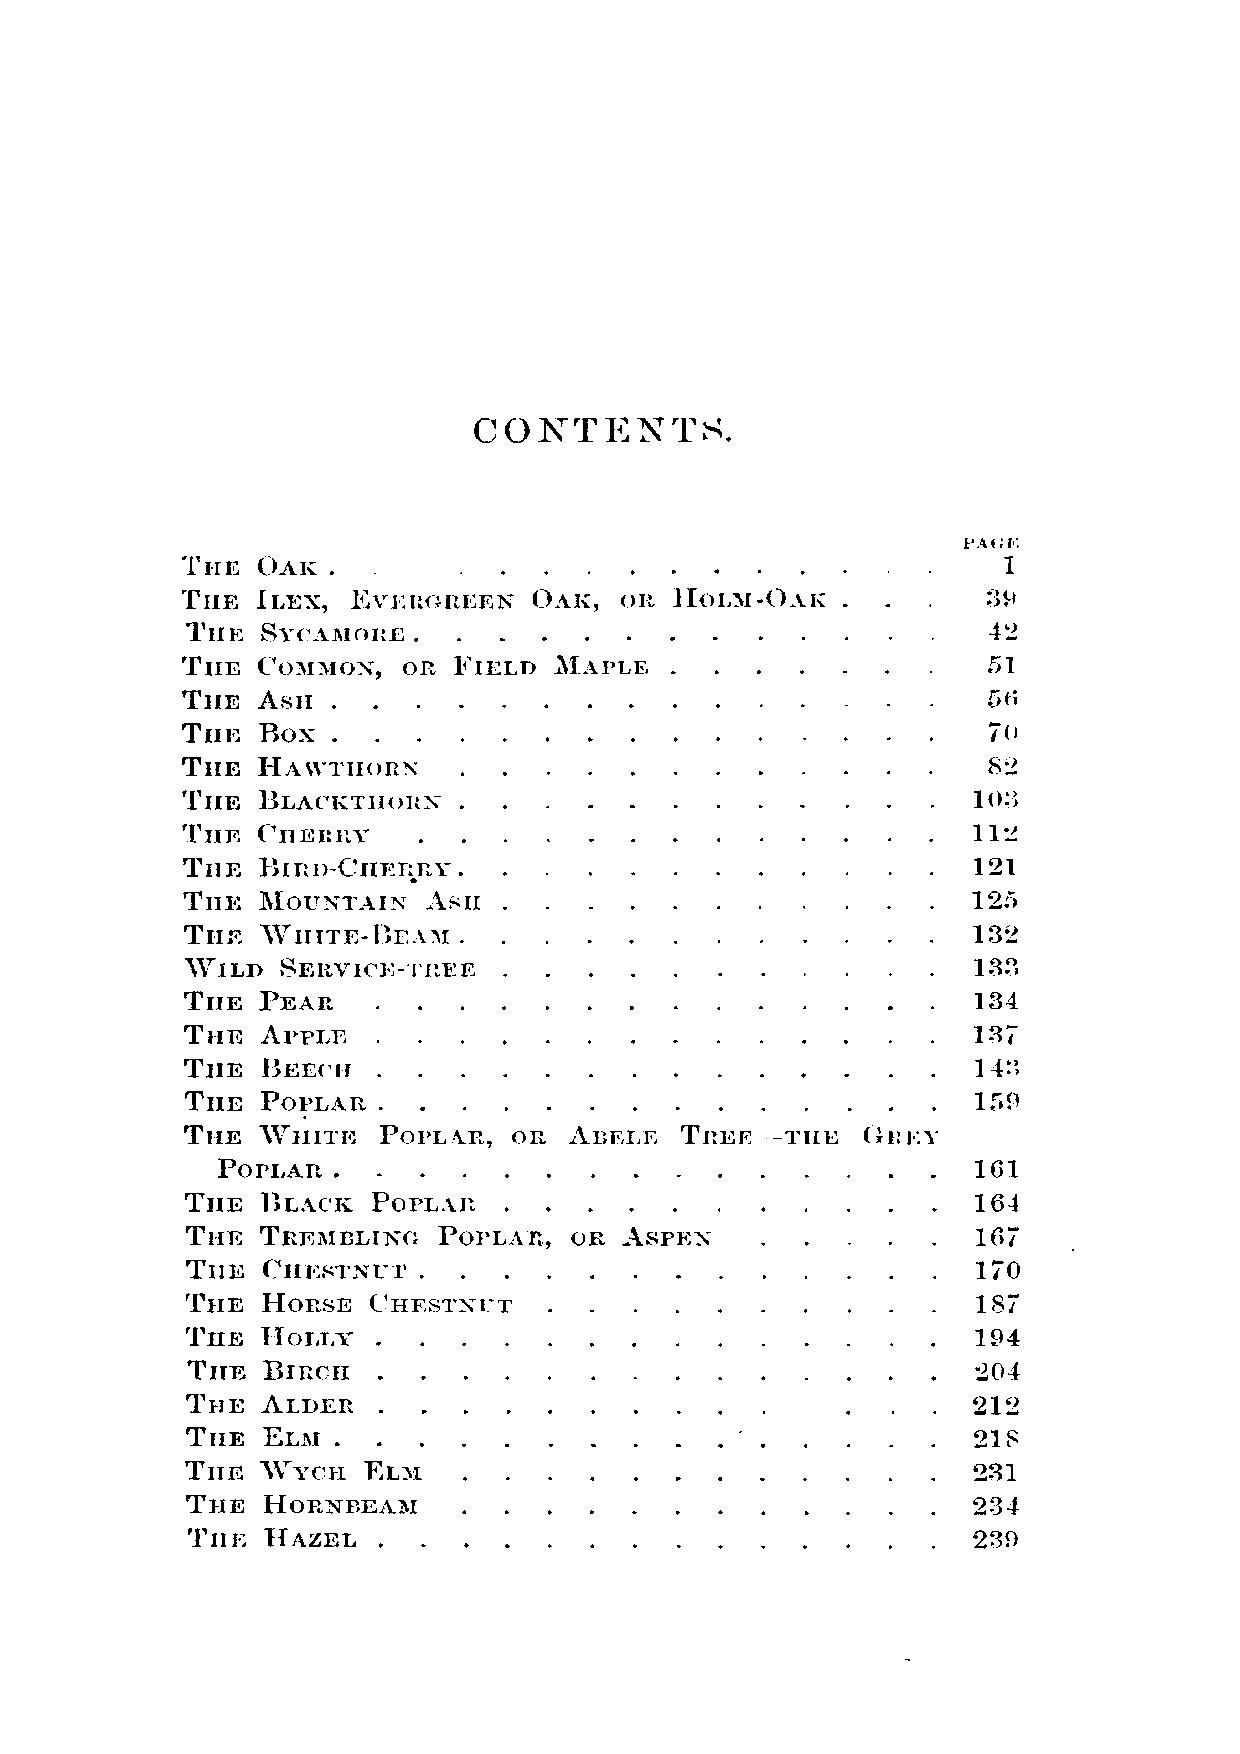TOC_chapter: (183, 1122, 943, 1181), (178, 584, 828, 611), (183, 1223, 714, 1247), (178, 651, 650, 678), (183, 919, 456, 951), (180, 1290, 513, 1315), (178, 854, 452, 884), (180, 890, 484, 915), (178, 957, 482, 982), (177, 1189, 476, 1213), (181, 615, 407, 646), (178, 786, 442, 812), (178, 753, 421, 778), (183, 1492, 421, 1516), (183, 1459, 424, 1482), (177, 819, 372, 845), (183, 1255, 411, 1278), (180, 1088, 369, 1114), (178, 1053, 356, 1080), (184, 1390, 357, 1417), (174, 548, 318, 580), (174, 1020, 353, 1045), (181, 1357, 356, 1382), (187, 1525, 361, 1550), (185, 1325, 356, 1347), (176, 721, 319, 747), (181, 1424, 323, 1449), (185, 988, 337, 1011), (183, 688, 314, 713)
TOC_pagenumber: (972, 985, 1019, 1015), (972, 1186, 1023, 1213), (970, 819, 1025, 843), (972, 1087, 1023, 1113), (972, 1358, 1023, 1384), (972, 921, 1025, 945), (974, 1290, 1021, 1317), (973, 1393, 1021, 1418), (972, 1525, 1020, 1550), (972, 1153, 1017, 1180), (984, 615, 1023, 646), (972, 1425, 1021, 1449), (968, 855, 1020, 878), (974, 1019, 1019, 1045), (972, 890, 1023, 913), (976, 954, 1021, 980), (972, 1325, 1023, 1347), (976, 1257, 1023, 1282), (973, 1223, 1019, 1247), (970, 1494, 1019, 1516), (972, 788, 1017, 811), (972, 1459, 1017, 1482), (974, 1055, 1019, 1078), (986, 718, 1021, 743), (984, 651, 1017, 676), (981, 586, 1020, 608), (984, 686, 1019, 709), (984, 753, 1019, 774), (996, 552, 1019, 577)
chapter: (466, 412, 741, 448)
